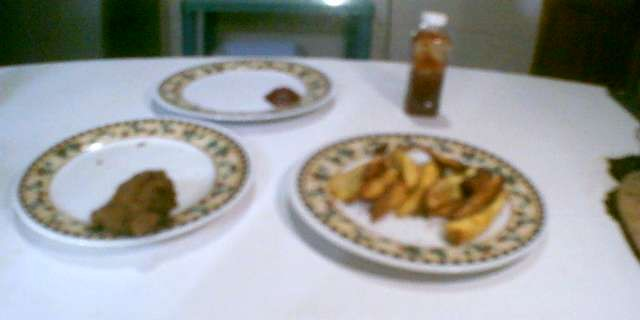chicken: (86, 163, 182, 241)
ketchup_bottle: (393, 3, 460, 122)
ketchup_portion: (258, 82, 304, 111)
potatoe_fries: (329, 138, 512, 246)
